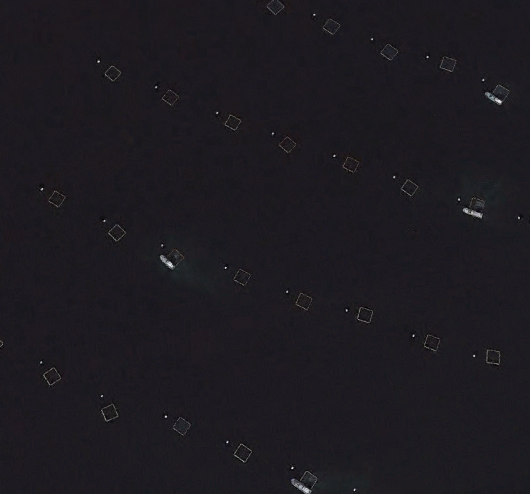ship: (480, 86, 508, 114), (460, 203, 489, 223), (284, 472, 310, 494), (157, 253, 175, 275)
square: (163, 411, 201, 447), (436, 47, 467, 81), (220, 262, 254, 291), (158, 84, 188, 116), (102, 60, 131, 92), (295, 465, 329, 491), (161, 242, 190, 272), (228, 439, 256, 467), (485, 76, 512, 105), (397, 172, 425, 199), (46, 184, 71, 214), (332, 149, 359, 176), (377, 35, 403, 63), (277, 129, 303, 157), (457, 192, 485, 217), (320, 11, 347, 36), (105, 216, 129, 244), (294, 287, 318, 315), (480, 345, 505, 371), (422, 330, 446, 357), (41, 363, 64, 391), (358, 303, 381, 329), (98, 397, 121, 422), (221, 110, 242, 130)
